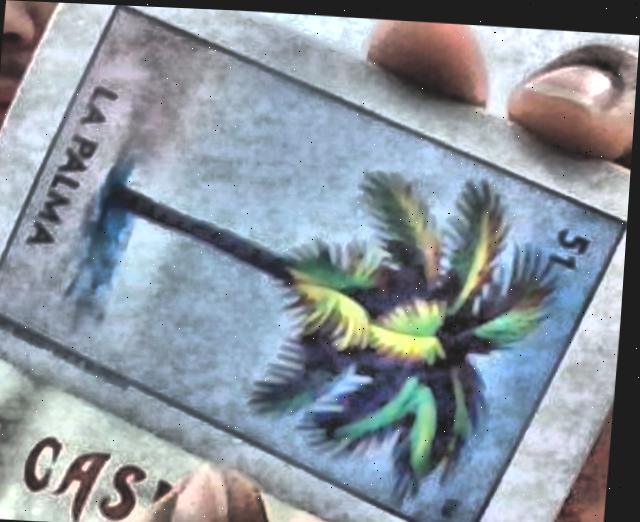La Palma: (0, 4, 629, 522)
